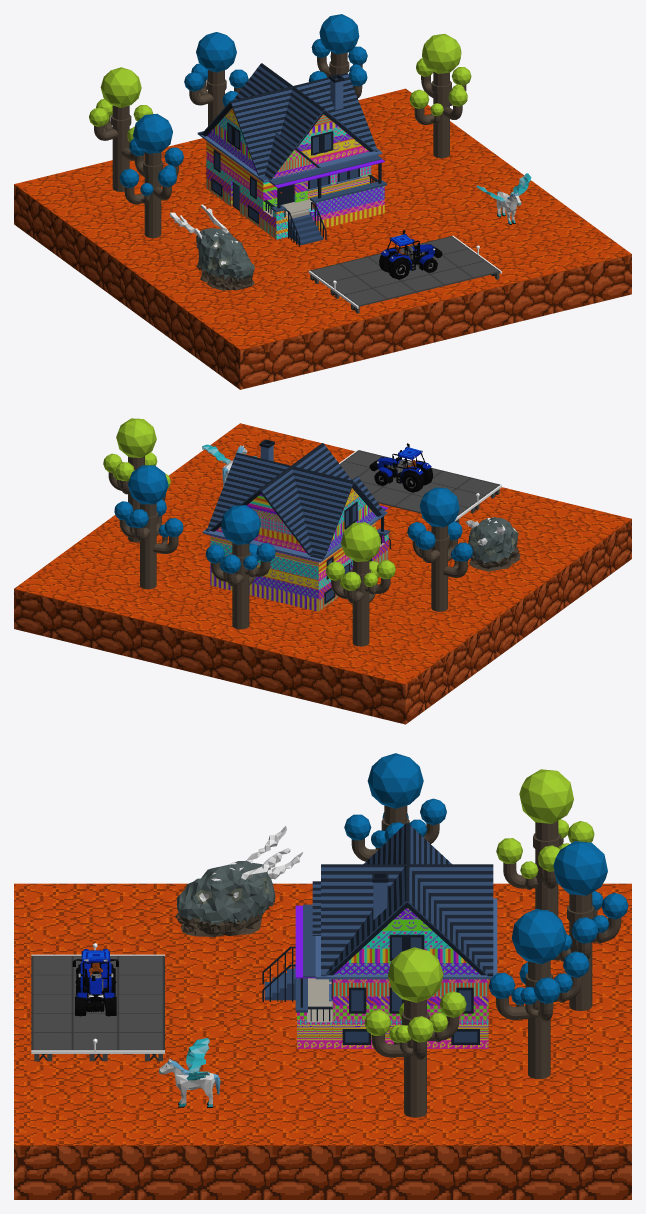
3 views of the same model, one above another, from view 1: azimuth 30°, elevation 25°; view 2: azimuth 150°, elevation 25°; view 3: azimuth 270°, elevation 25° (orthographic). The views are drawn at different scales.
Visible parts, largest first — view 1: Cube.001, Cube.676, OBJRANDOM_METEORITE, VEHICLES_TRACTOR, ANIMAL_PEGASO; view 2: Cube.001, Cube.676, OBJRANDOM_METEORITE, VEHICLES_TRACTOR, ANIMAL_PEGASO; view 3: Cube.001, Cube.676, OBJRANDOM_METEORITE, VEHICLES_TRACTOR, ANIMAL_PEGASO.
Boxes of the visible parts, bbox=[...] form: Cube.001: bbox=[14, 14, 631, 389]; Cube.676: bbox=[197, 63, 387, 246]; OBJRANDOM_METEORITE: bbox=[170, 204, 254, 290]; VEHICLES_TRACTOR: bbox=[379, 230, 442, 279]; ANIMAL_PEGASO: bbox=[476, 173, 531, 224]; Cube.001: bbox=[14, 418, 631, 724]; Cube.676: bbox=[202, 439, 390, 611]; OBJRANDOM_METEORITE: bbox=[465, 517, 520, 571]; VEHICLES_TRACTOR: bbox=[369, 443, 432, 492]; ANIMAL_PEGASO: bbox=[202, 444, 256, 486]; Cube.001: bbox=[14, 753, 631, 1199]; Cube.676: bbox=[262, 823, 497, 1048]; OBJRANDOM_METEORITE: bbox=[175, 826, 303, 936]; VEHICLES_TRACTOR: bbox=[72, 949, 118, 1016]; ANIMAL_PEGASO: bbox=[159, 1038, 220, 1107].
Size of the model in its own units: 4000 by 1663 by 4000.
Materials: 37 (8 with a texture image).
